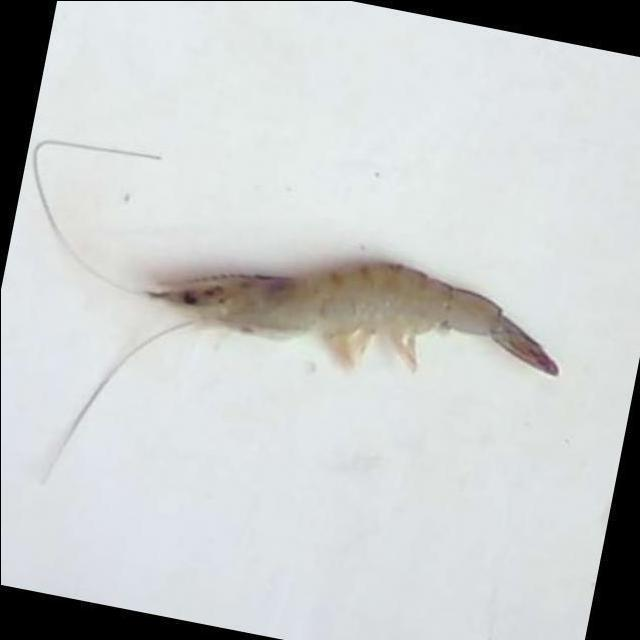shrimp: (147, 263, 557, 373)
